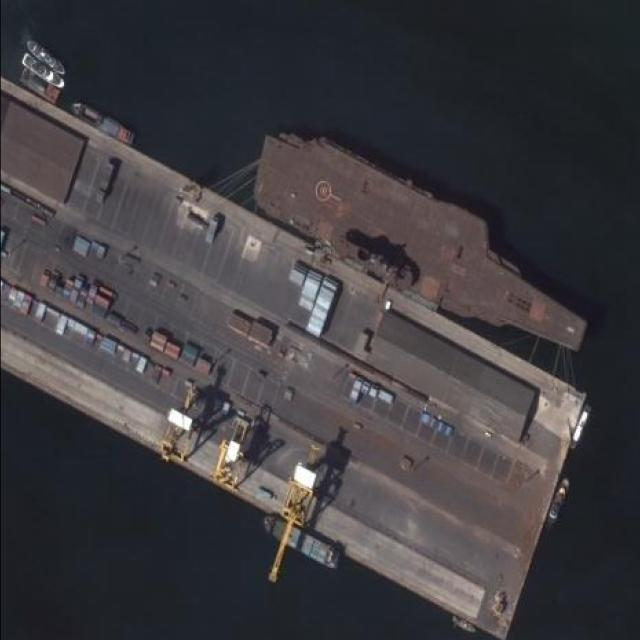Aircraft Carrier: (229, 110, 613, 380)
Cargo: (65, 96, 138, 145)
Other Ship: (24, 37, 70, 78), (19, 52, 67, 91)
